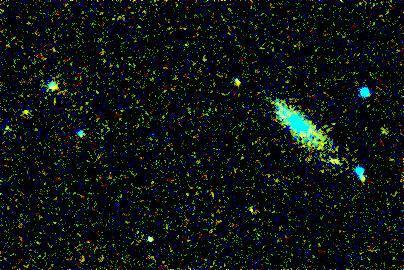star: (317, 147, 347, 177)
